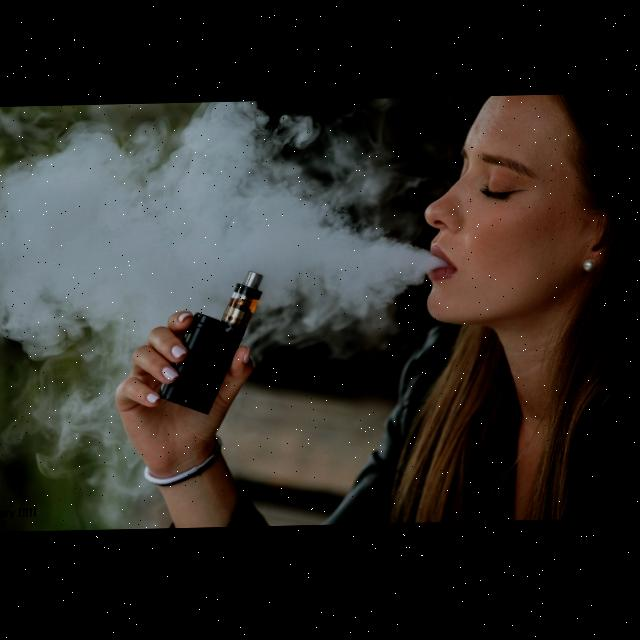vape: (167, 272, 270, 418)
